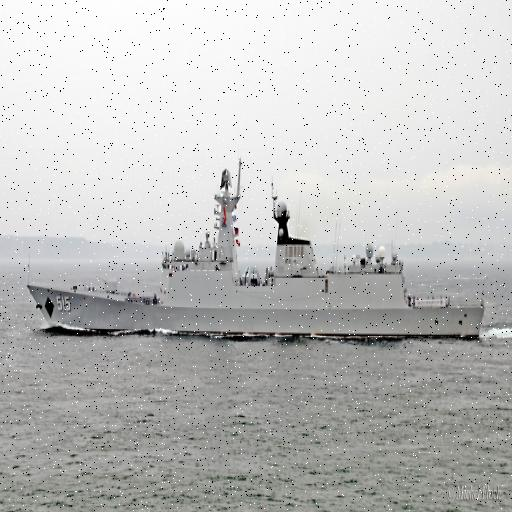Fragata: (27, 160, 487, 339)
